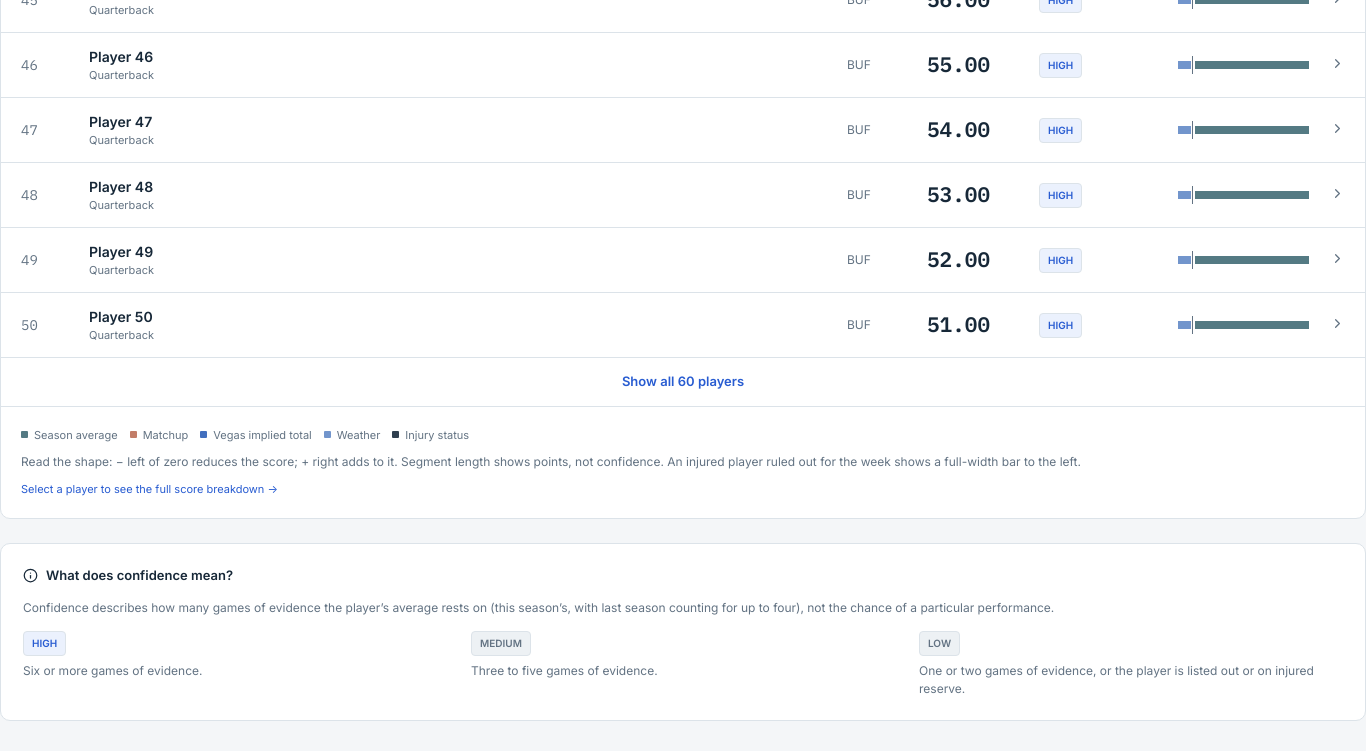
Test: RankingsPage › shows the top 50 and the rest on request, keeping the numbering
The image size is (1366, 751).
(page scrolled)
Click the button "Show all 60 players".
click(683, 381)  # box [1,357,1365,406]
(page scrolled)
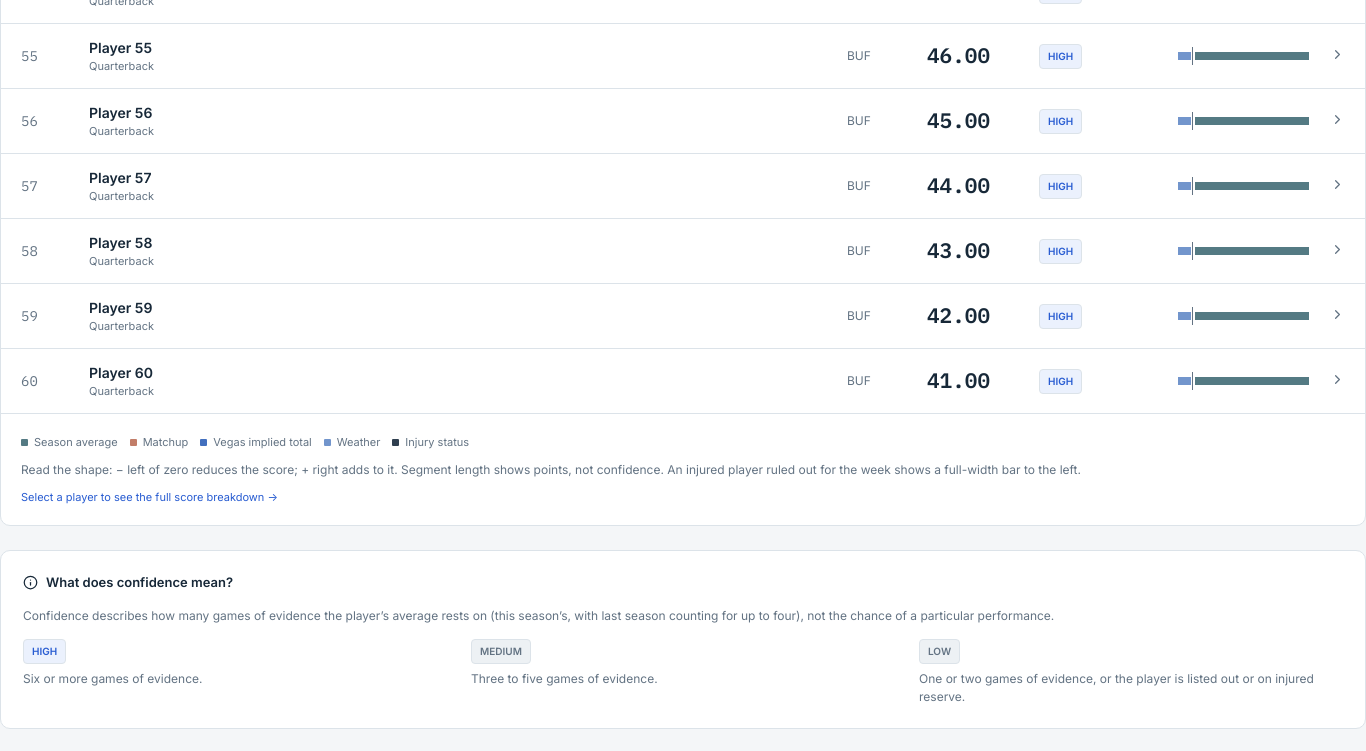
expect the link "Player 60" is shown: met, box [89,364,153,381]
expect the text "60" is shown: met, box [21,370,69,392]
